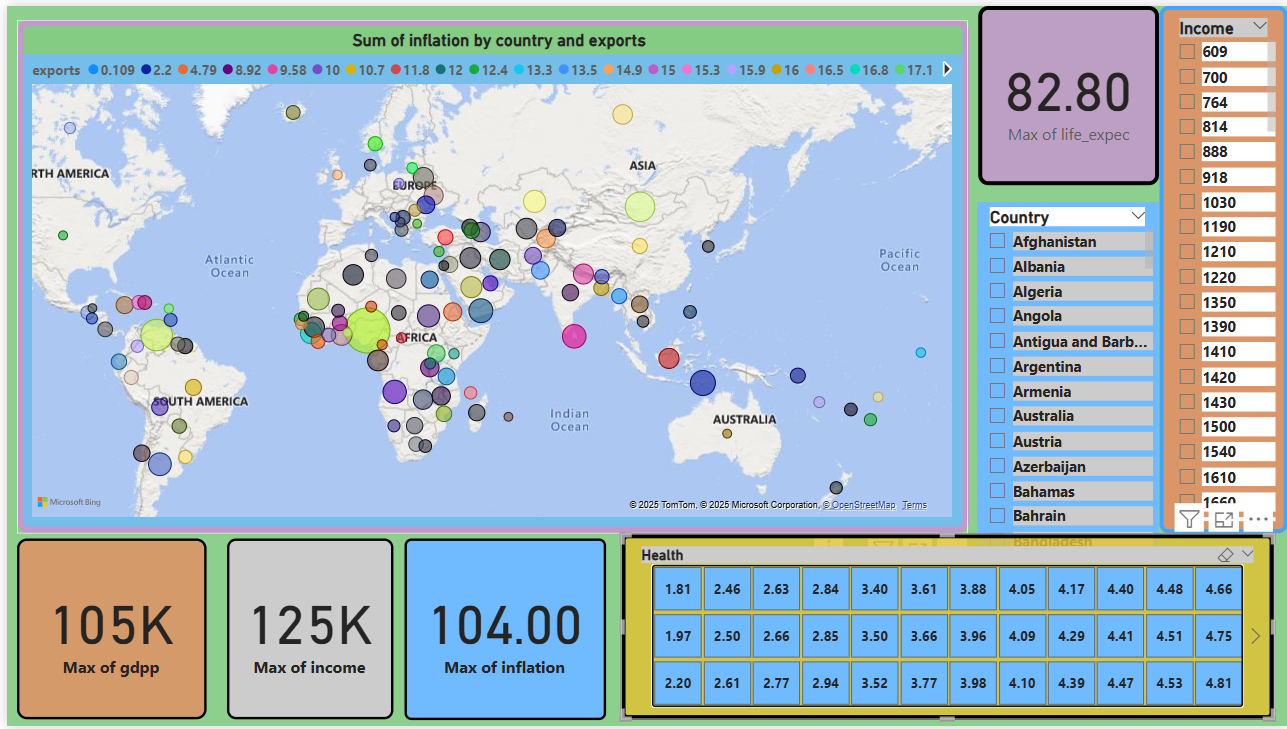

This screenshot's page, from the dashboard's own definition file:
{"tool":"powerbi","page":{"name":"Page 2","canvas":[1280,720],"ordinal":1},"visuals":[{"type":"map","fields":{"Category":["Country-data.country"],"Size":["Sum(Country-data.inflation)"],"Series":["Country-data.exports"]},"box":[9.7,13.9,951.7,513.4],"z":0},{"type":"card","fields":{"Values":["Max(Country-data.gdpp)"]},"box":[9.6,532.4,189.4,181.1],"z":1000},{"type":"slicer","fields":{"Values":["Country-data.income"]},"box":[1152.7,0,127.6,526.9],"z":2000},{"type":"card","fields":{"Values":["Max(Country-data.income)"]},"box":[219.6,532.4,166,181.1],"z":3000},{"type":"card","fields":{"Values":["Max(Country-data.inflation)"]},"box":[397.5,532.5,201.2,181.2],"z":4000},{"type":"slicer","fields":{"Values":["Country-data.health"]},"box":[613.8,527.5,653.8,186.2],"z":5000},{"type":"slicer","fields":{"Values":["Country-data.country"]},"box":[970,13.8,181.2,531.2],"z":7000}]}

Visuals, with their boxes in screenshot pixels (x1, y1, x2, y2), scaled from the page's 1280x720 canvas onto the 1287x729 screenshot:
map - Country-data.country x Sum(Country-data.inflation): {"left": 10, "top": 14, "right": 967, "bottom": 534}
card - Max(Country-data.gdpp): {"left": 10, "top": 539, "right": 200, "bottom": 722}
slicer - Country-data.income: {"left": 1159, "top": 0, "right": 1286, "bottom": 533}
card - Max(Country-data.income): {"left": 221, "top": 539, "right": 388, "bottom": 722}
card - Max(Country-data.inflation): {"left": 400, "top": 539, "right": 602, "bottom": 723}
slicer - Country-data.health: {"left": 617, "top": 534, "right": 1275, "bottom": 723}
slicer - Country-data.country: {"left": 975, "top": 14, "right": 1157, "bottom": 552}
